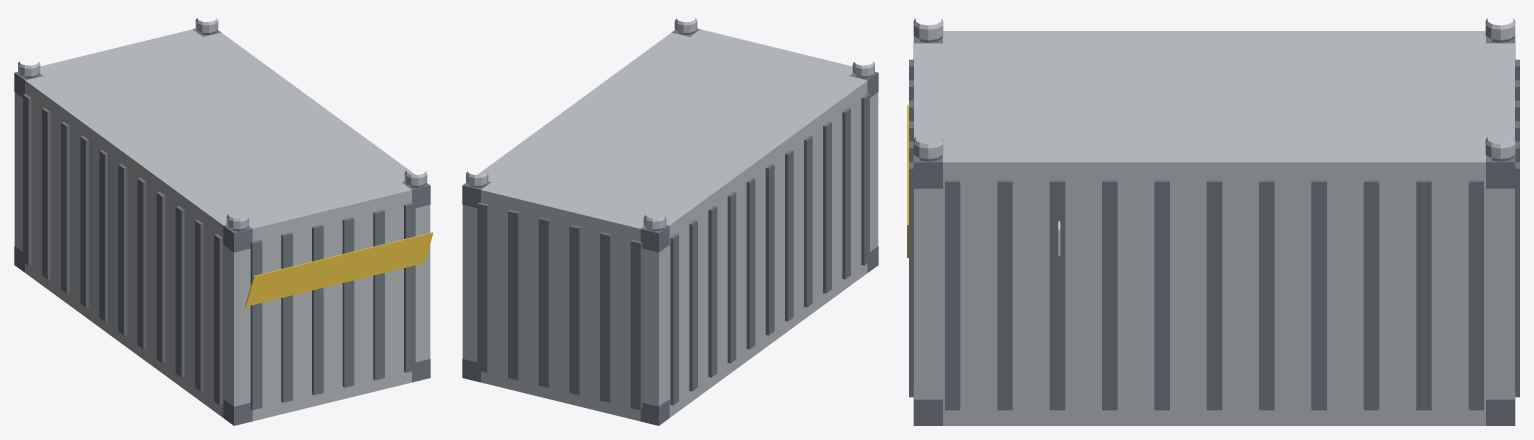
The model's file is ufo-crash-site-and-recovery-facility-transport-crate-c7c8320d__17350.glb.
3 views of the same model, side by side, from view 1: azimuth 30°, elevation 25°; view 2: azimuth 150°, elevation 25°; view 3: azimuth 270°, elevation 25° (orthographic). The views are drawn at different scales.
Visible parts, largest first — view 1: transport-crate; view 2: transport-crate; view 3: transport-crate.
Part boxes in pixels (<box>): transport-crate: <box>14,18,433,425</box>; transport-crate: <box>462,17,878,425</box>; transport-crate: <box>907,18,1519,425</box>.
Bounding box in the file's own units: 3.5 × 3.2 × 6.32.
